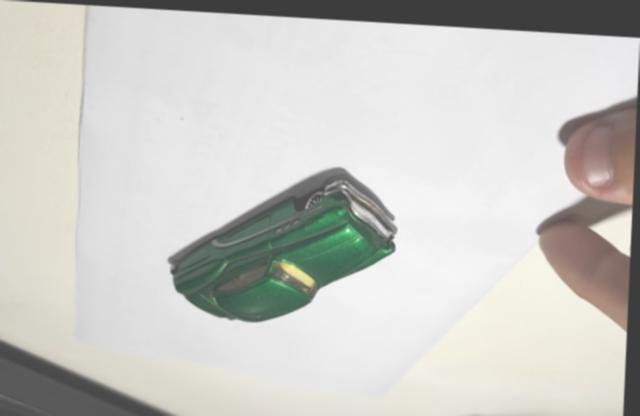06_MASERATI: (169, 161, 401, 319)
